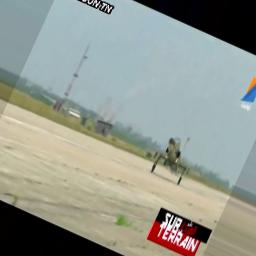Airplane: (147, 135, 194, 185)
